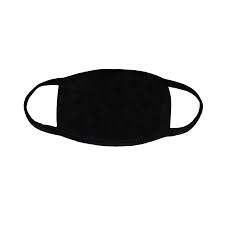cloth_mask: (23, 66, 206, 149)
